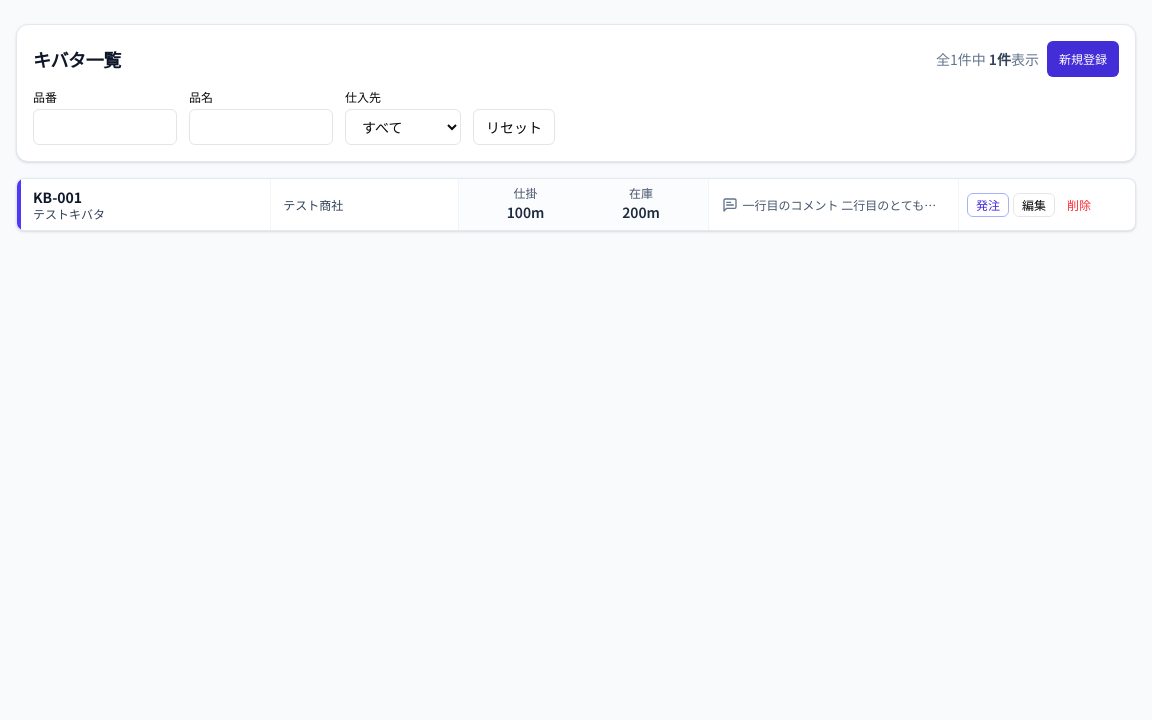
Test: GrayFabricListTable コメント › コメントボタンをクリックすると全文がダイアログ表示される
Click the button named "コメントを表示" at (730, 205), box x1=721 y1=193 x2=738 y2=217
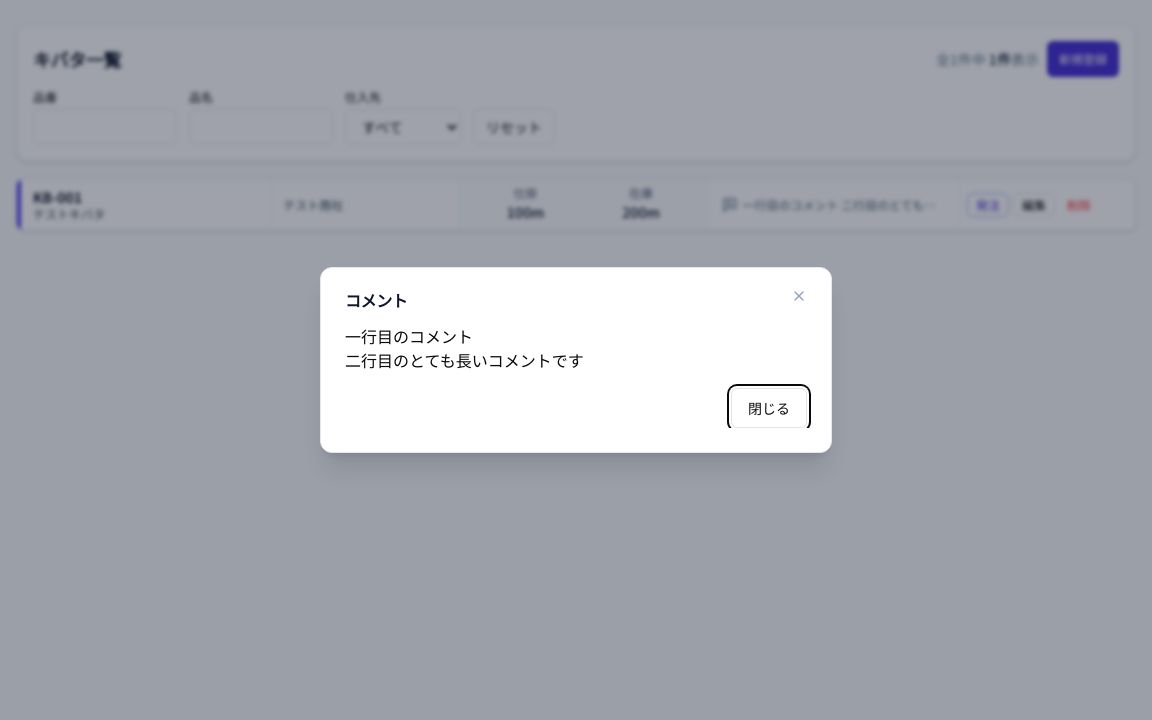
Result: the dialog shows "二行目のとても長いコメントです" at x1=345 y1=324 x2=584 y2=372
